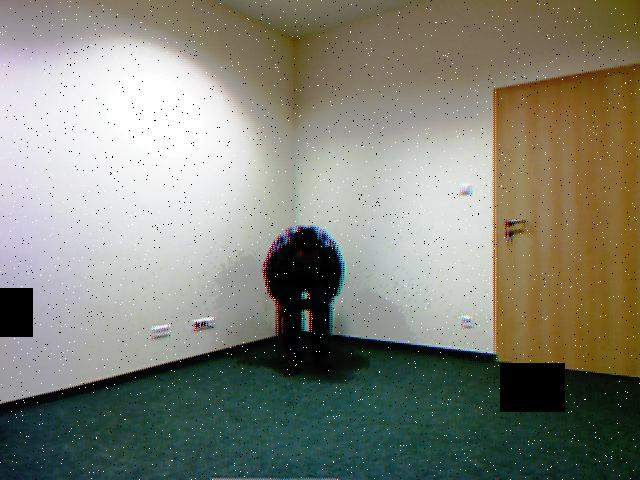bending: (250, 216, 356, 379)
